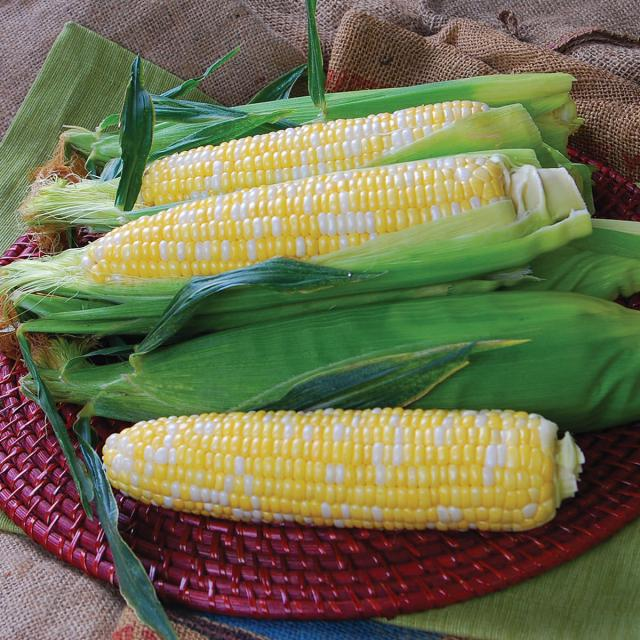corn: (71, 157, 558, 304), (99, 407, 593, 538), (111, 95, 502, 225)
